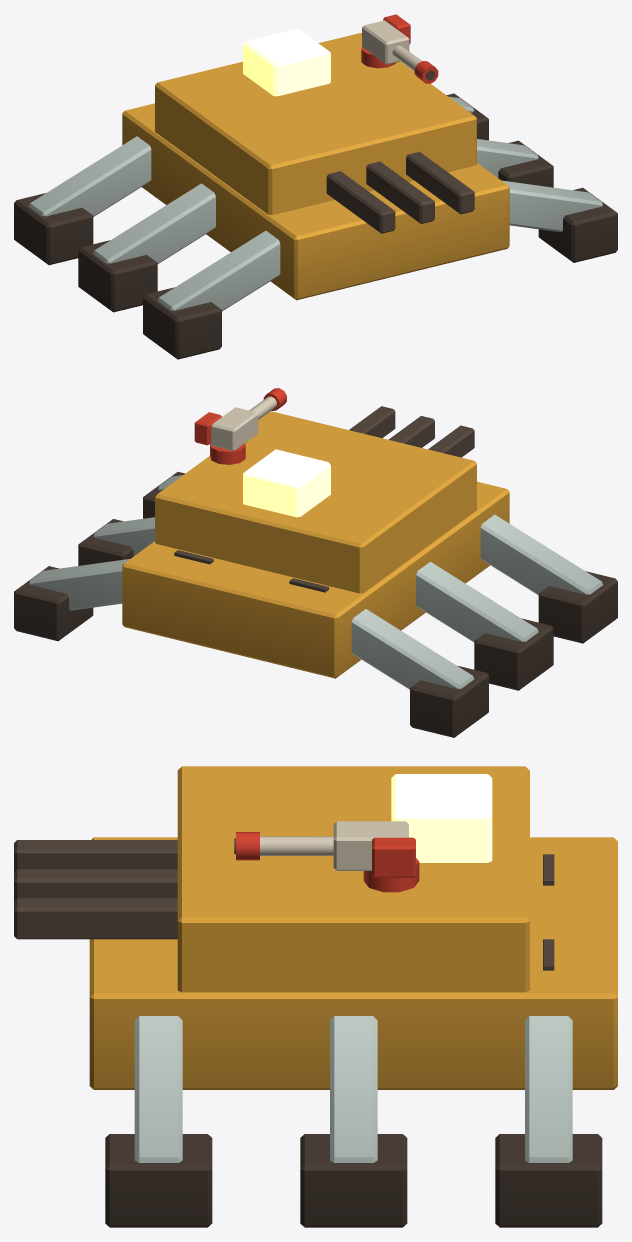
File: ironsovereign.glb
3 views of the same model, one above another, from view 1: azimuth 30°, elevation 25°; view 2: azimuth 150°, elevation 25°; view 3: azimuth 270°, elevation 25° (orthographic). The views are drawn at different scales.
Parts seen in each view (by area): view 1: Carapace, Chassis, Cannon, Strut, Strut.004, Strut.002, Core, Foot, Foot.002, Foot.004, Strut.001, Foot.001 (+4 smaller); view 2: Carapace, Chassis, Strut.004, Strut, Strut.002, Core, Foot.004, Foot, Foot.002, Strut.005, Foot.005, Cannon (+5 smaller); view 3: Carapace, Chassis, Cannon, Foot.003, Foot.001, Foot.005, Core, Strut.001, Strut.003, Strut.005, Auxiliary receiver, Auxiliary swivel (+1 smaller).
Part boxes in pixels (x1=…): Carapace: x1=155, y1=33, x2=476, y2=215; Chassis: x1=122, y1=103, x2=509, y2=300; Cannon: x1=326, y1=151, x2=474, y2=233; Strut: x1=157, y1=230, x2=280, y2=311; Strut.004: x1=29, y1=136, x2=151, y2=216; Strut.002: x1=93, y1=183, x2=215, y2=263; Core: x1=243, y1=28, x2=330, y2=96; Foot: x1=143, y1=287, x2=221, y2=359; Foot.002: x1=78, y1=240, x2=157, y2=312; Foot.004: x1=14, y1=193, x2=93, y2=265; Strut.001: x1=501, y1=180, x2=602, y2=232; Foot.001: x1=538, y1=187, x2=617, y2=262; Carapace: x1=155, y1=411, x2=476, y2=593; Chassis: x1=122, y1=481, x2=509, y2=678; Strut.004: x1=351, y1=609, x2=474, y2=689; Strut: x1=480, y1=514, x2=602, y2=595; Strut.002: x1=416, y1=561, x2=538, y2=642; Core: x1=243, y1=449, x2=330, y2=517; Foot.004: x1=410, y1=665, x2=488, y2=737; Foot: x1=538, y1=571, x2=617, y2=643; Foot.002: x1=474, y1=618, x2=553, y2=690; Strut.005: x1=28, y1=559, x2=129, y2=610; Foot.005: x1=14, y1=566, x2=93, y2=641; Cannon: x1=349, y1=406, x2=474, y2=457; Carapace: x1=177, y1=766, x2=529, y2=992; Chassis: x1=89, y1=837, x2=617, y2=1089; Cannon: x1=14, y1=840, x2=177, y2=939; Foot.003: x1=300, y1=1134, x2=407, y2=1227; Foot.001: x1=105, y1=1134, x2=212, y2=1227; Foot.005: x1=495, y1=1134, x2=602, y2=1227; Core: x1=391, y1=774, x2=492, y2=862; Strut.001: x1=134, y1=1016, x2=182, y2=1162; Strut.003: x1=330, y1=1016, x2=377, y2=1162; Strut.005: x1=525, y1=1016, x2=572, y2=1162; Auxiliary receiver: x1=260, y1=821, x2=408, y2=870; Auxiliary swivel: x1=236, y1=832, x2=419, y2=892.
Size of the model in its own units: 11.68 by 4.89 by 9.12.
